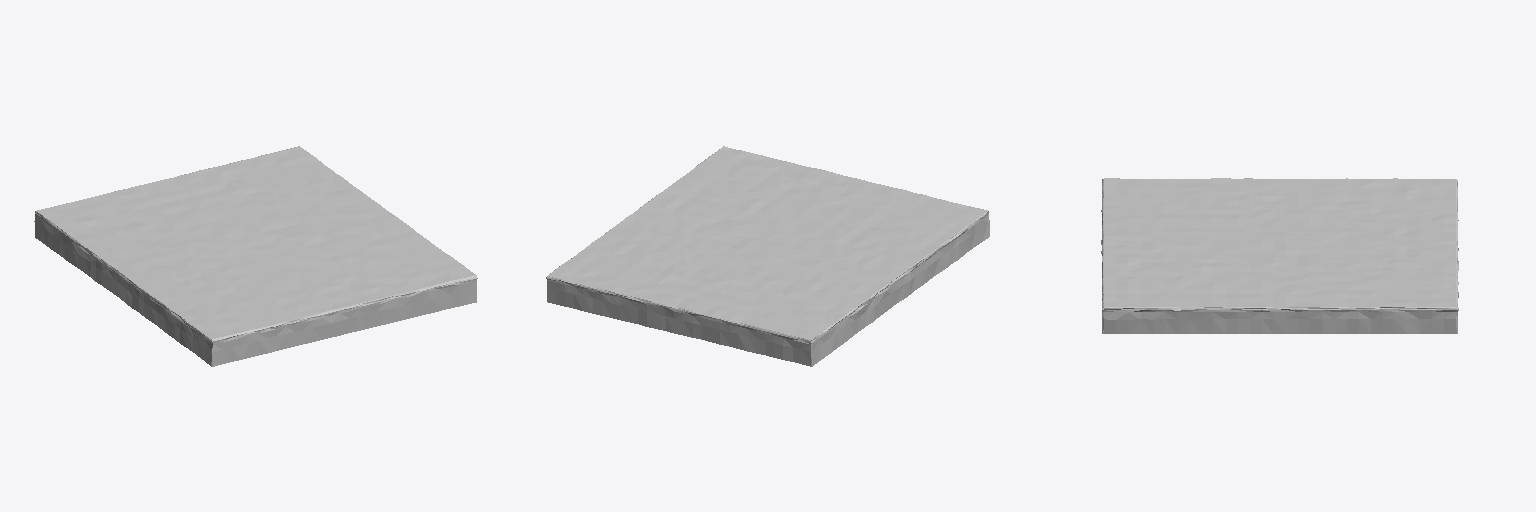
The model's file is CubeLand.obj.
3 views of the same model, side by side, from view 1: azimuth 30°, elevation 25°; view 2: azimuth 150°, elevation 25°; view 3: azimuth 270°, elevation 25° (orthographic).
Parts seen in each view (by area): view 1: CubeLand; view 2: CubeLand; view 3: CubeLand.
Part boxes in pixels (x1,y1,x2,y2): CubeLand: (34, 146, 477, 366); CubeLand: (546, 146, 989, 366); CubeLand: (1101, 178, 1458, 333).
Bounding box in the file's own units: 66.87 × 6.42 × 77.48.